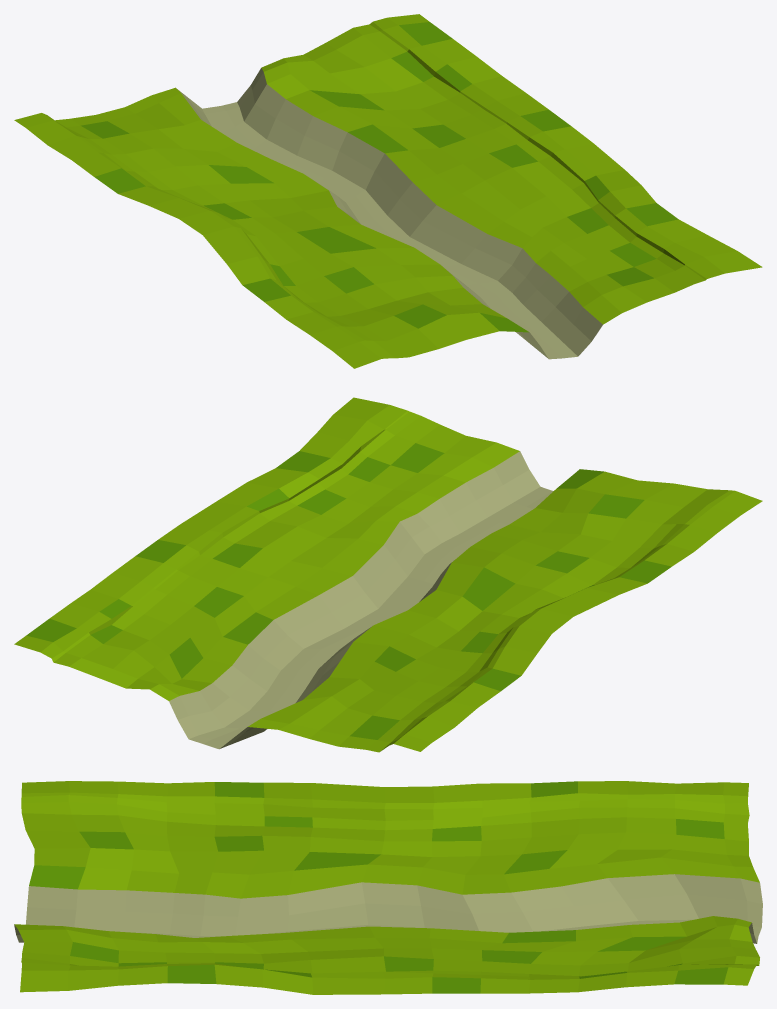
The model's file is Terrain.fbx.
3 views of the same model, one above another, from view 1: azimuth 30°, elevation 25°; view 2: azimuth 150°, elevation 25°; view 3: azimuth 270°, elevation 25° (orthographic). The views are drawn at different scales.
Parts seen in each view (by area): view 1: pPlane5; view 2: pPlane5; view 3: pPlane5.
Boxes of the visible parts, <box> form: pPlane5: <box>14,14,762,368</box>; pPlane5: <box>14,397,762,752</box>; pPlane5: <box>14,781,762,994</box>.
Bounding box in the file's own units: 25.07 × 3 × 37.18.
